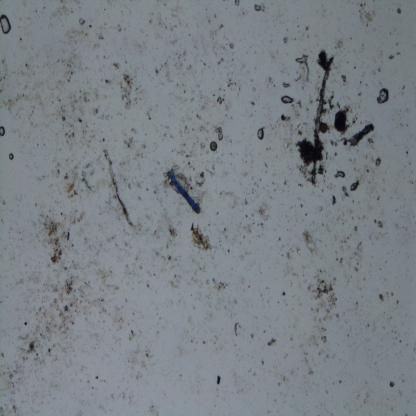Air bubble: (0, 14, 12, 34), (377, 88, 390, 105), (280, 94, 295, 106), (350, 178, 360, 193), (295, 53, 307, 64), (257, 127, 265, 140), (336, 169, 346, 179), (0, 126, 6, 138), (7, 152, 14, 162)
Background material: (0, 209, 86, 413), (0, 15, 107, 152), (296, 268, 342, 374), (88, 264, 138, 340), (200, 16, 240, 91), (42, 154, 101, 202), (148, 217, 180, 287), (109, 60, 139, 113), (339, 226, 366, 274), (121, 124, 149, 162), (141, 8, 183, 32), (178, 121, 206, 156), (127, 342, 154, 378), (198, 271, 230, 299), (187, 220, 211, 254), (191, 90, 214, 124), (217, 190, 249, 210), (334, 101, 352, 136), (297, 229, 321, 253), (297, 136, 314, 169), (110, 232, 130, 260), (356, 2, 376, 30), (150, 177, 169, 206), (172, 51, 193, 72), (280, 124, 295, 153), (87, 232, 103, 257), (298, 165, 314, 186), (238, 219, 257, 236), (51, 3, 74, 17), (134, 220, 150, 240), (232, 370, 244, 394), (257, 202, 270, 223), (189, 266, 205, 281), (154, 63, 170, 77), (217, 222, 227, 244), (134, 40, 149, 54), (214, 123, 225, 141), (264, 73, 276, 89), (370, 61, 381, 78), (143, 105, 154, 122), (276, 374, 289, 388), (252, 2, 267, 14), (207, 162, 219, 177), (175, 78, 187, 93), (134, 255, 144, 271), (362, 389, 372, 405), (360, 166, 373, 178), (187, 157, 198, 171), (324, 136, 338, 147), (149, 402, 160, 416), (373, 216, 382, 232), (349, 298, 360, 311), (8, 402, 19, 415), (394, 383, 404, 397), (317, 162, 326, 177), (280, 113, 292, 124), (388, 328, 399, 340), (278, 35, 290, 46), (290, 105, 300, 118), (217, 94, 226, 108), (294, 67, 303, 81), (233, 320, 240, 338), (171, 159, 181, 171), (284, 250, 294, 261), (267, 336, 276, 348), (336, 39, 345, 51), (342, 185, 349, 200), (330, 193, 338, 206), (340, 70, 347, 84), (252, 181, 259, 194), (308, 91, 314, 106), (132, 181, 140, 192), (248, 328, 255, 340), (352, 112, 359, 124), (256, 220, 266, 228), (334, 377, 344, 385), (116, 22, 124, 32), (303, 22, 311, 32), (374, 157, 381, 168), (331, 150, 340, 158), (296, 128, 304, 137), (270, 179, 276, 191), (283, 177, 290, 187), (364, 319, 371, 329), (396, 5, 402, 16), (274, 298, 282, 306), (386, 54, 394, 62), (324, 150, 330, 160), (405, 146, 410, 158), (400, 86, 406, 96), (283, 82, 290, 90), (280, 290, 287, 298), (354, 223, 359, 234), (260, 358, 266, 367), (218, 154, 223, 164), (402, 120, 409, 127), (322, 388, 329, 395), (352, 166, 359, 173), (375, 194, 381, 202), (251, 84, 257, 92), (348, 157, 357, 162), (276, 233, 281, 242), (216, 374, 220, 385), (302, 212, 309, 218), (354, 212, 360, 219), (234, 1, 241, 7), (247, 78, 254, 84), (318, 206, 324, 213), (302, 120, 308, 127), (390, 381, 396, 388), (401, 224, 408, 230), (390, 290, 395, 298), (386, 291, 390, 301), (379, 294, 384, 302), (362, 212, 367, 220), (298, 100, 302, 110), (250, 101, 256, 107), (397, 50, 402, 57), (264, 161, 268, 169), (406, 108, 410, 116), (409, 178, 414, 184), (145, 185, 150, 191), (319, 187, 324, 193), (357, 91, 363, 96), (86, 377, 91, 383), (155, 328, 160, 334), (349, 214, 354, 220), (304, 107, 310, 112), (95, 374, 100, 380), (299, 203, 303, 210), (32, 8, 37, 13), (404, 411, 409, 416), (201, 340, 206, 345), (294, 36, 298, 42), (396, 299, 400, 305), (266, 146, 272, 150), (352, 198, 356, 203), (255, 371, 258, 377), (147, 282, 150, 288), (296, 24, 300, 28), (354, 63, 356, 71), (90, 386, 94, 390), (402, 215, 406, 219), (396, 40, 398, 47), (308, 34, 310, 40), (399, 338, 401, 344), (395, 208, 399, 211), (336, 256, 338, 262), (228, 249, 230, 254), (366, 82, 368, 87), (360, 80, 362, 83), (43, 5, 45, 8)
Cellulose filter fibre: (312, 56, 335, 184), (101, 148, 134, 230), (344, 124, 375, 146), (304, 60, 310, 84)
Cotton: (168, 171, 201, 215)
Diatom: (210, 140, 218, 153), (321, 122, 329, 134)
